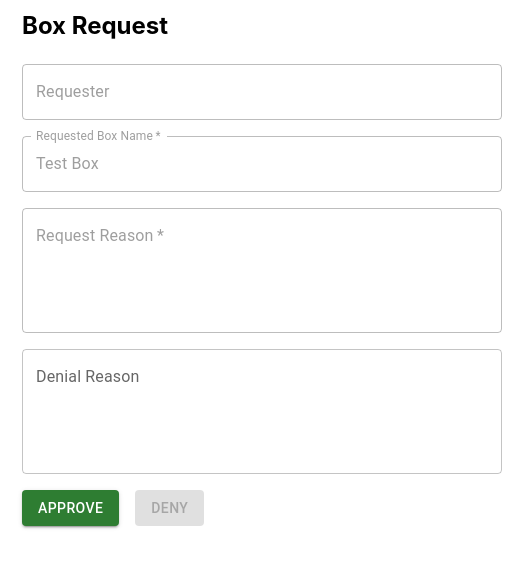
Test: BoxRequestForm › shows error when approving without request reason
This screenshot has width=519, height=576.
Step 1. Click the button "Approve" → (71, 508), box [22,490,119,526]
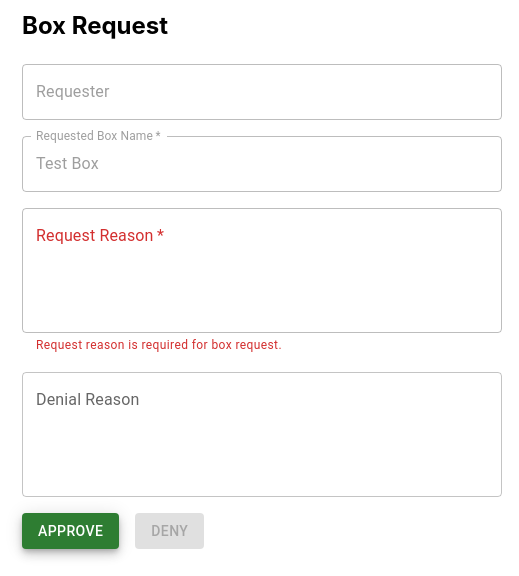
Expected: the text "Request reason is required for box request." is shown, [36,338,282,352]
